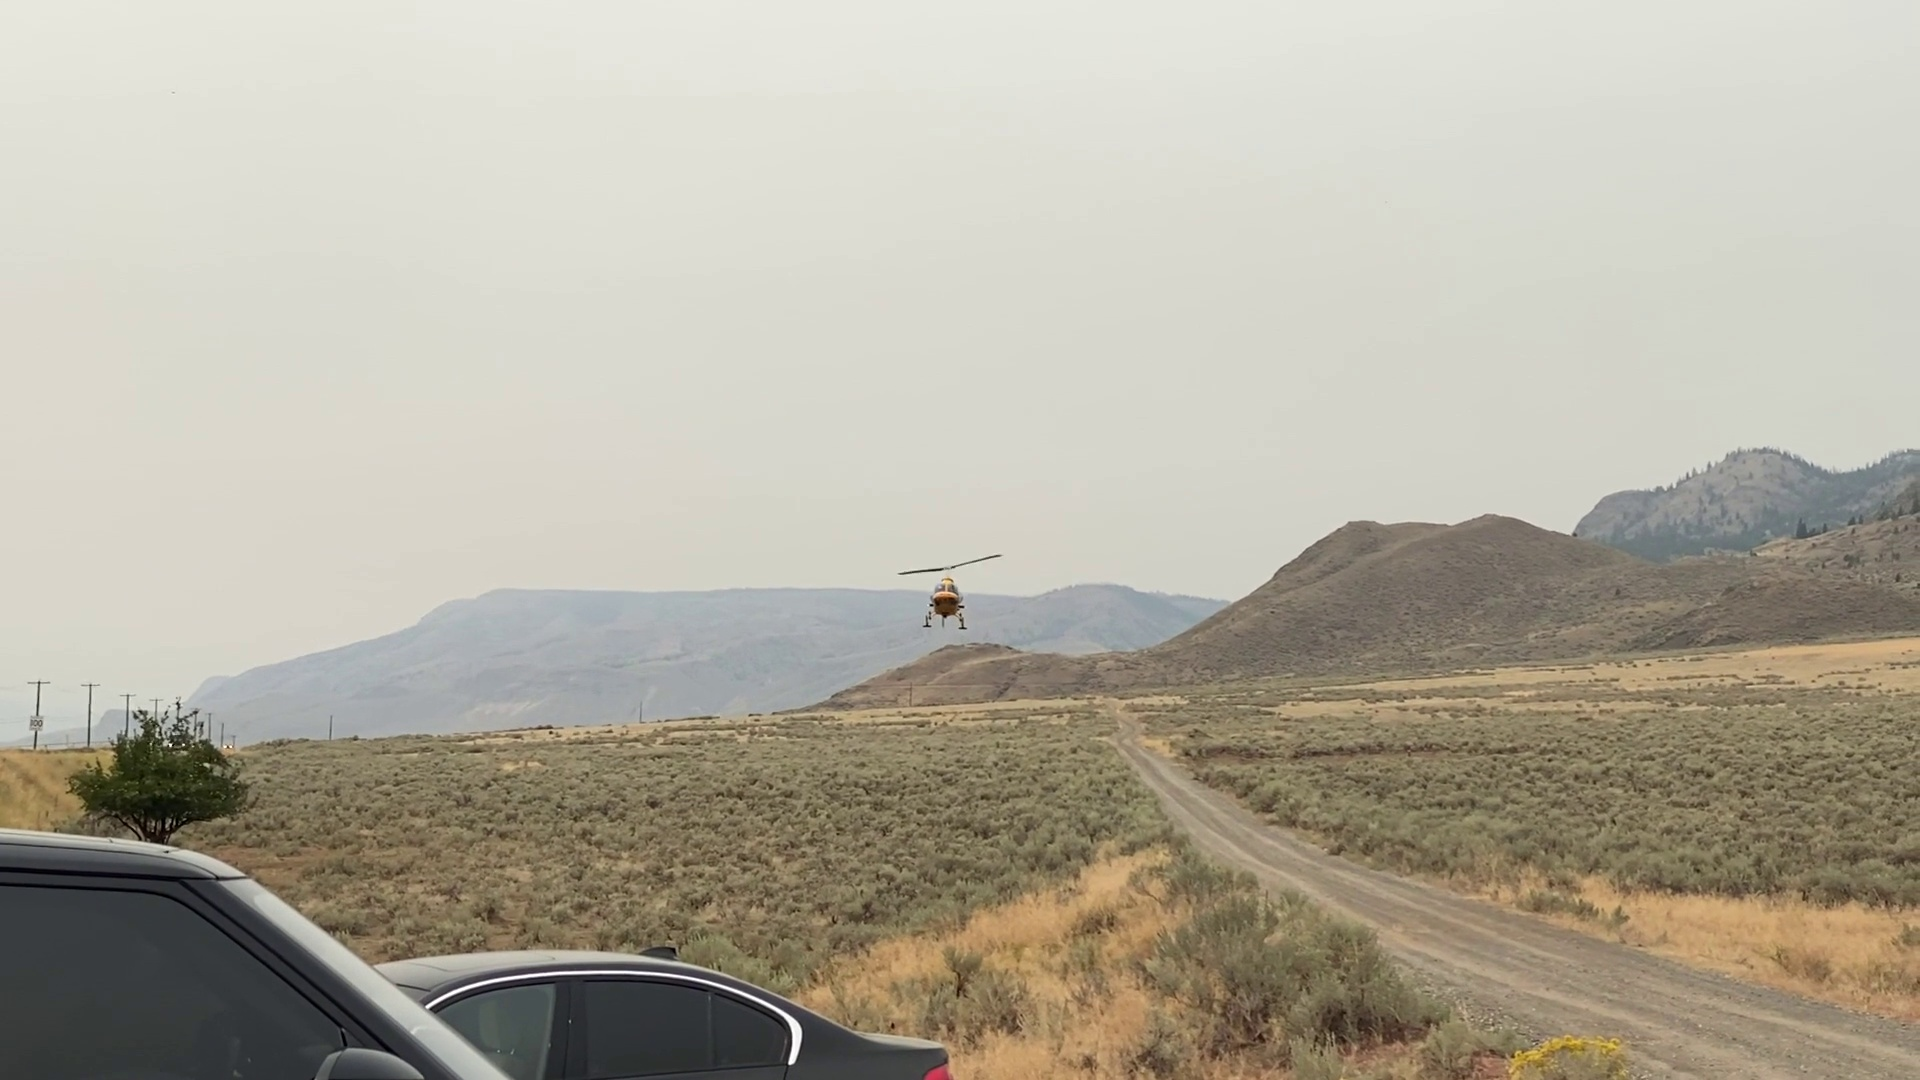heli: (894, 554, 1001, 632)
